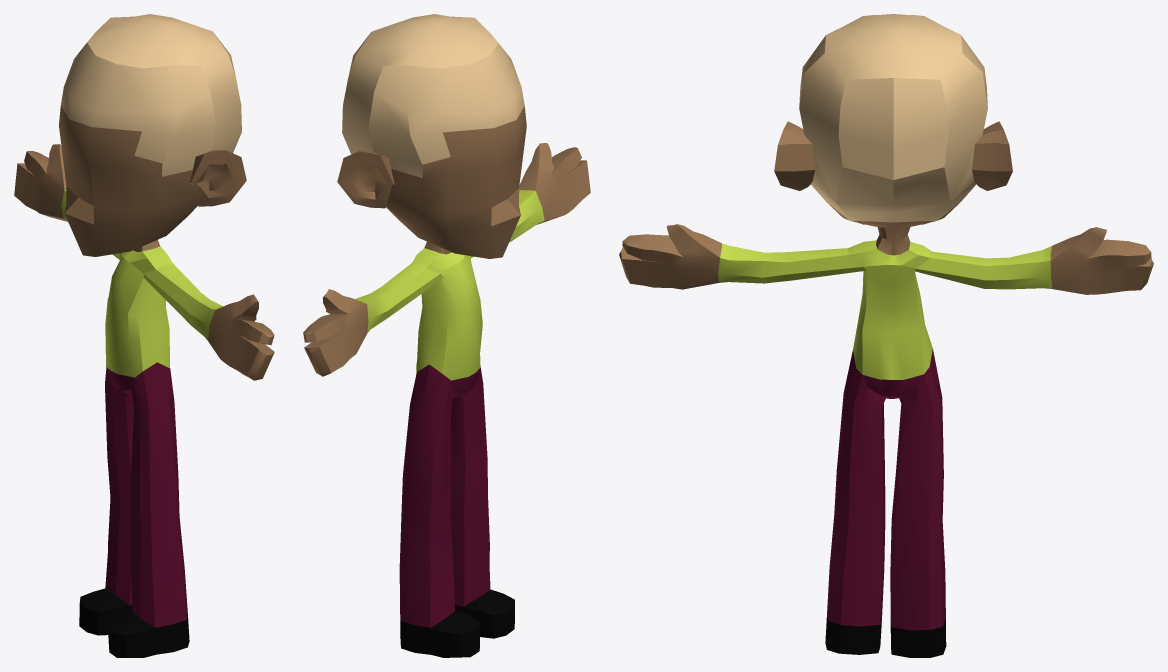
Rendered from Men5.fbx.
3 views of the same model, side by side, from view 1: azimuth 30°, elevation 25°; view 2: azimuth 150°, elevation 25°; view 3: azimuth 270°, elevation 25° (orthographic). The views are drawn at different scales.
Visible parts, largest first — view 1: Body; view 2: Body; view 3: Body.
Boxes of the visible parts, left/top/right/bottom form: Body: left=14, top=14, right=274, bottom=657; Body: left=303, top=14, right=590, bottom=657; Body: left=619, top=14, right=1153, bottom=657.
Bounding box in the file's own units: 391 × 147 × 505.
